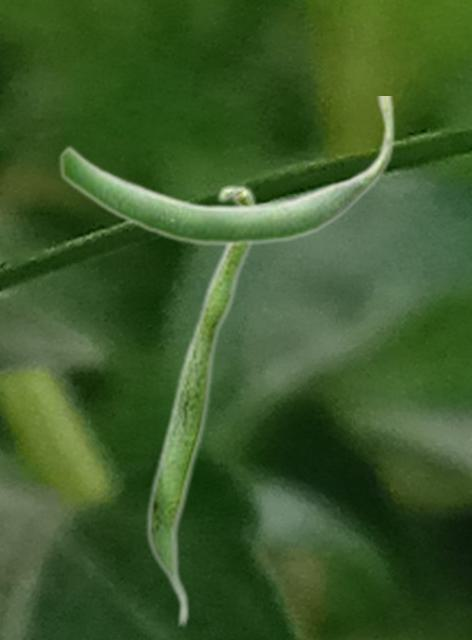french_bean: (58, 96, 395, 247), (145, 183, 258, 629)
